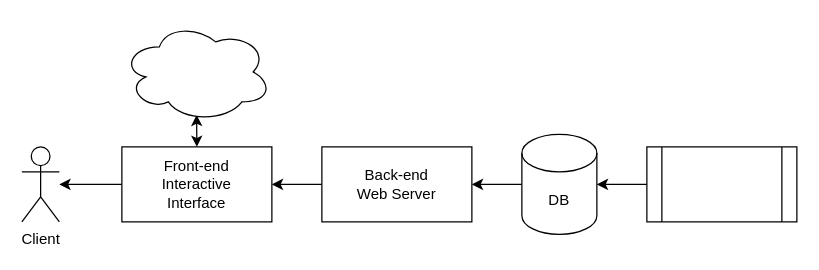
The diagram is 819 pixels wide and 270 high, and some of its shapes have lost their labels. The shapes that lost their labels are listed below. From the top down, each one's centre as x and y in pixels, then its label:
At (x=196, y=71): "Geo-Clustering Map API".
At (x=721, y=184): "VisiBot Processing System".
